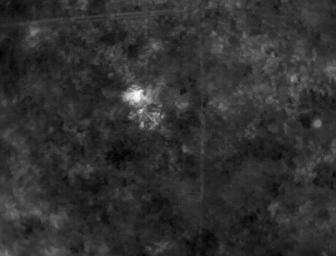landmine: (120, 83, 145, 106)
